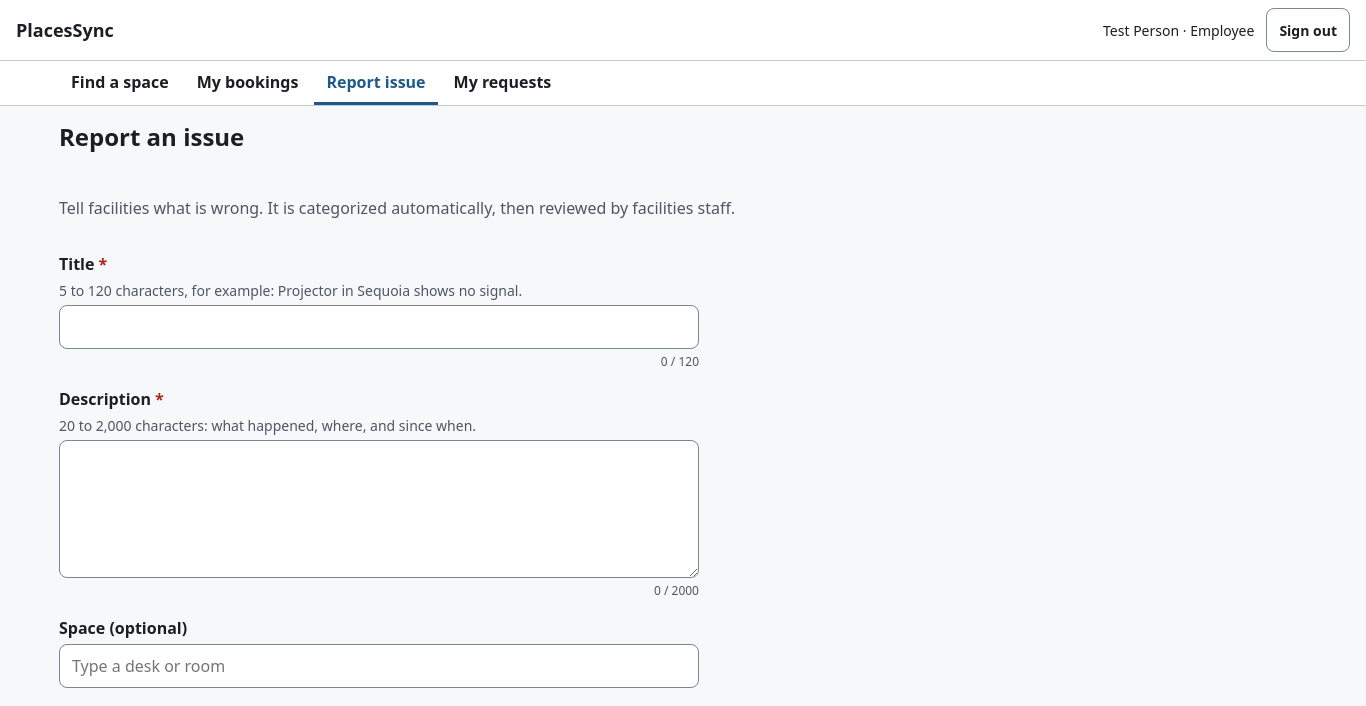
it: Report an issue (SPEC 14.1) › shows the pending message when triage could not start
In the field labelled "Title*": point(379, 327) [59, 305, 699, 349], type "Projector has no signal"
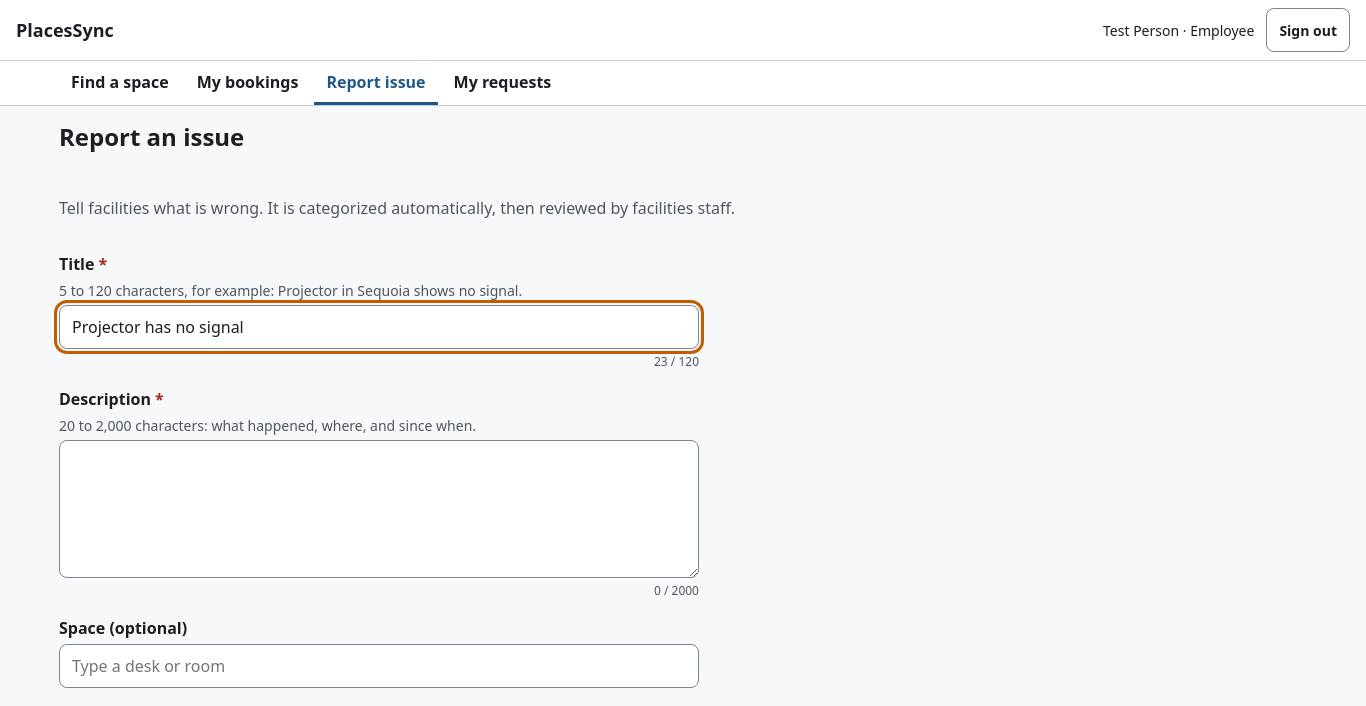
In the text box labelled "Description*": point(379, 509) [59, 440, 699, 578], type "The projector in Sequoia shows no signal from HDMI."
(page scrolled)
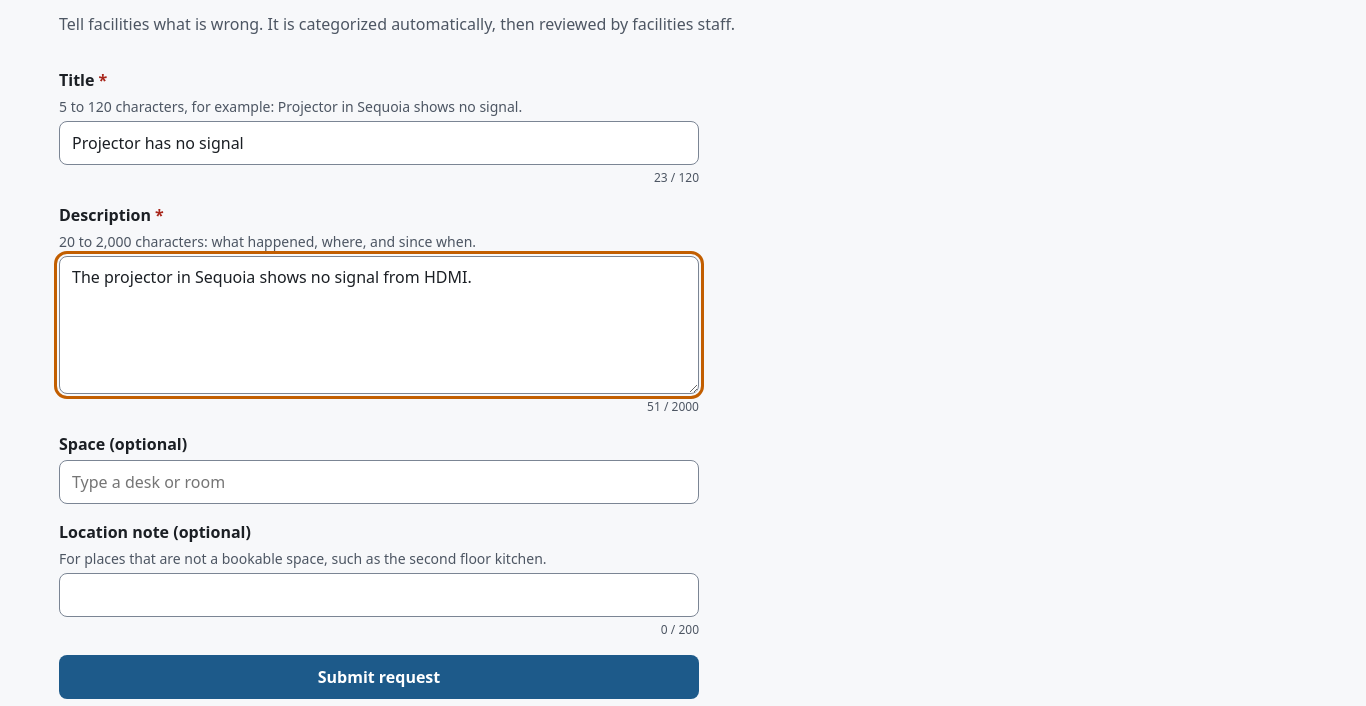
Click the button "Submit request": point(379, 677) [59, 655, 699, 699]
(page scrolled)
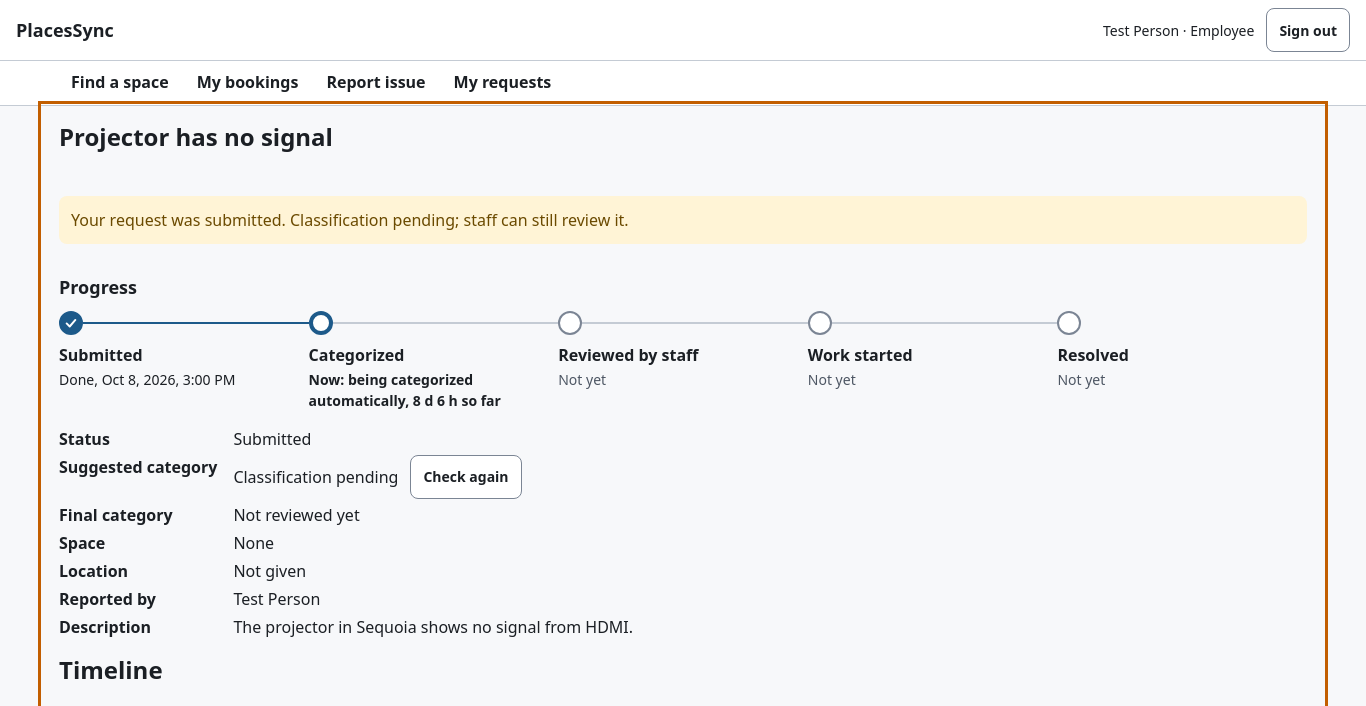
Expected: the text "Your request was submitted. Classification pending; staff can still review it." is shown, [59, 196, 1307, 244]
